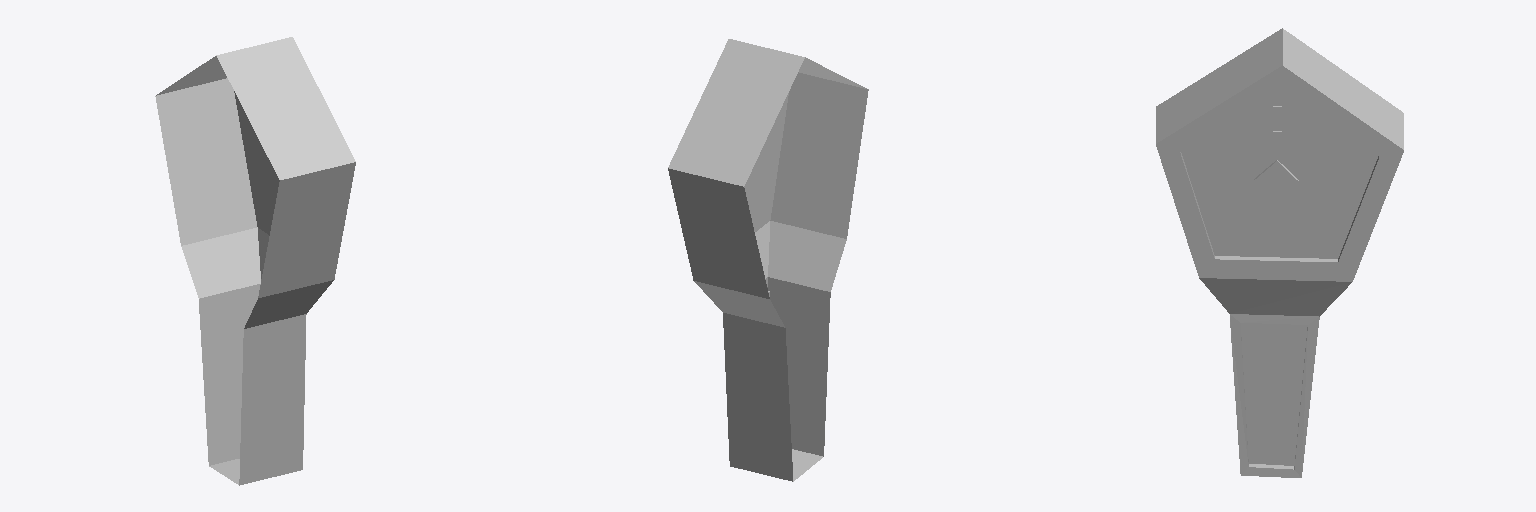
The model's file is clock.obj.
3 views of the same model, side by side, from view 1: azimuth 30°, elevation 25°; view 2: azimuth 150°, elevation 25°; view 3: azimuth 270°, elevation 25° (orthographic).
Visible parts, largest first — view 1: Cube_Cube.001; view 2: Cube_Cube.001; view 3: Cube_Cube.001.
Boxes of the visible parts, <box> form: Cube_Cube.001: <box>155,37,355,485</box>; Cube_Cube.001: <box>668,39,868,481</box>; Cube_Cube.001: <box>1156,28,1403,477</box>.
Bounding box in the file's own units: 0.6791 × 3.53 × 1.9.